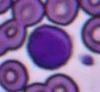L: (27, 25, 73, 70)
